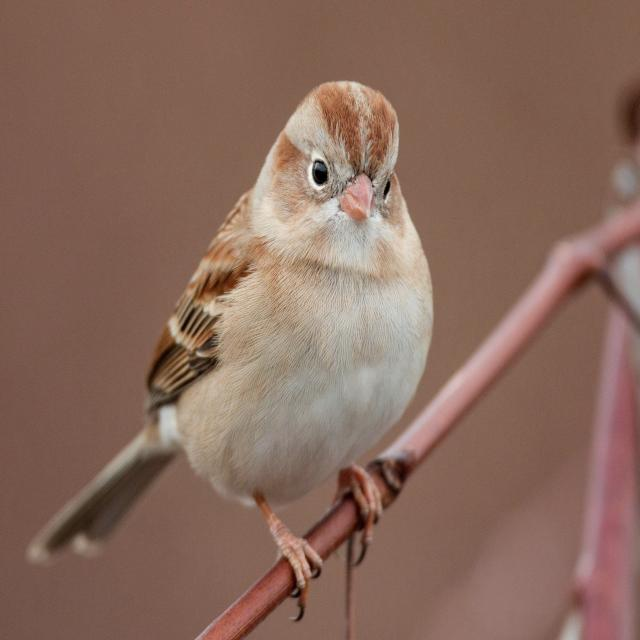sparrow: (28, 82, 433, 616)
